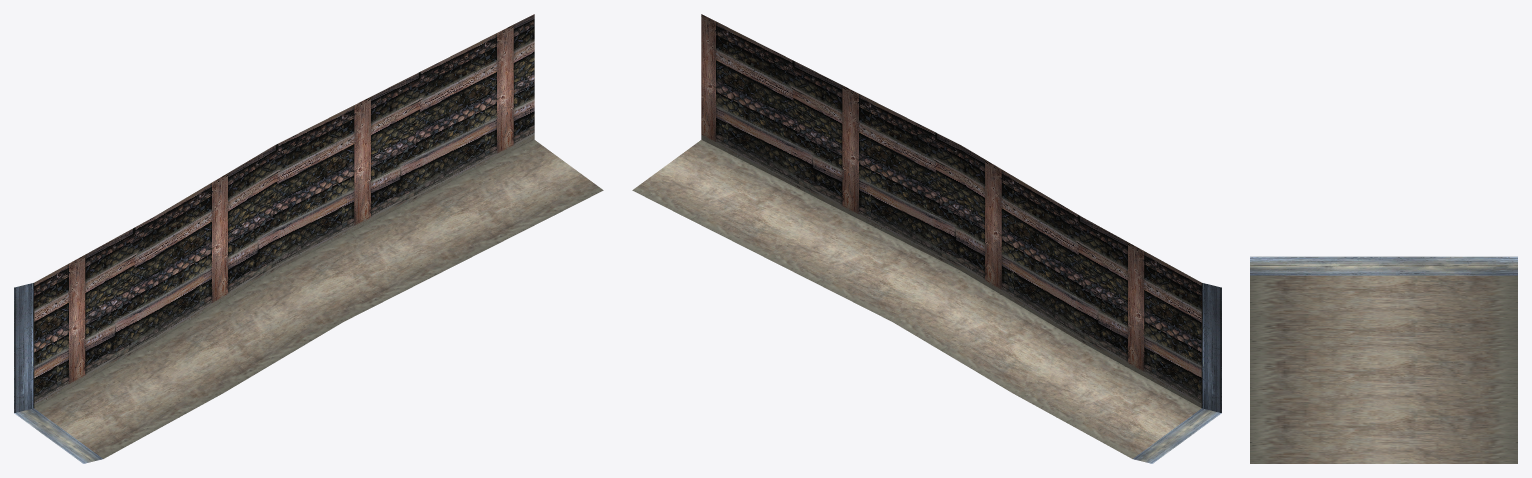
3 renders of one model, left to right at view 1: azimuth 30°, elevation 25°; view 2: azimuth 150°, elevation 25°; view 3: azimuth 270°, elevation 25°, orthographic. The views are drawn at different scales.
Parts seen in each view (by area): view 1: M09_Z05_09; view 2: M09_Z05_09; view 3: M09_Z05_09.
Part boxes in pixels (x1,y1,x2,y2): M09_Z05_09: [14, 14, 603, 463]; M09_Z05_09: [632, 14, 1221, 463]; M09_Z05_09: [1250, 256, 1517, 463].
Size of the model in its own units: 13 by 6.5 by 3.
Materials: 5 (5 with a texture image).
